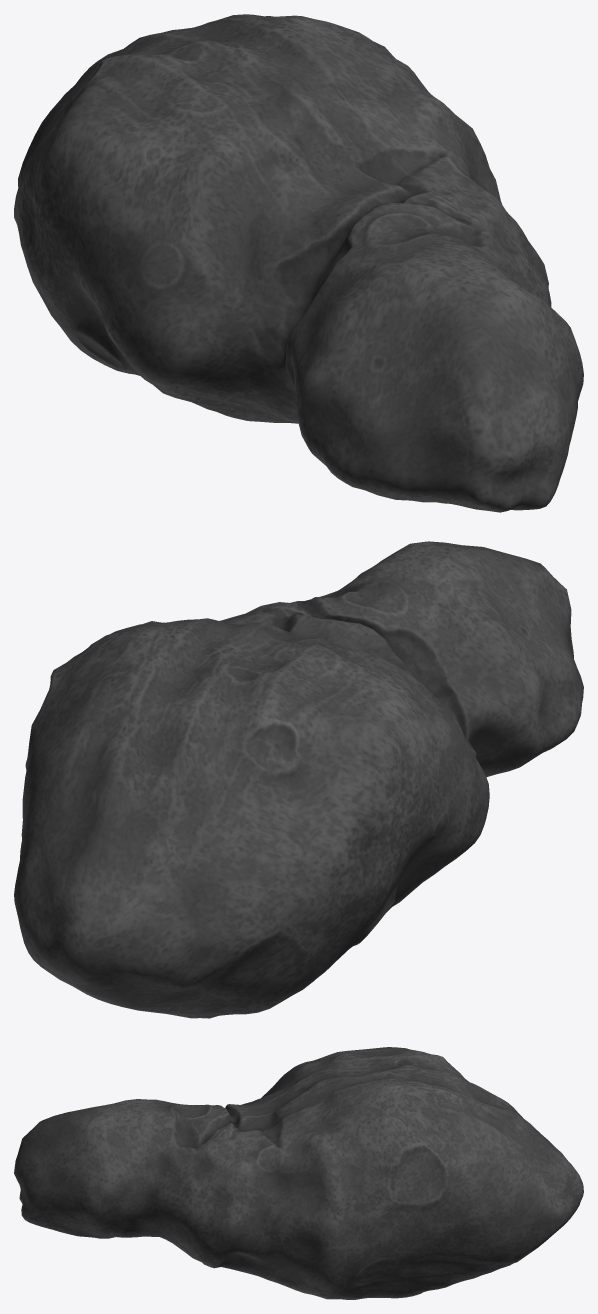
3 views of the same model, one above another, from view 1: azimuth 30°, elevation 25°; view 2: azimuth 150°, elevation 25°; view 3: azimuth 270°, elevation 25° (orthographic). The views are drawn at different scales.
Visible parts, largest first — view 1: Toutatis_LP; view 2: Toutatis_LP; view 3: Toutatis_LP.
Boxes of the visible parts, box(x1,y1,x2,y2) form: Toutatis_LP: box(14, 14, 583, 512); Toutatis_LP: box(14, 541, 583, 1018); Toutatis_LP: box(14, 1047, 583, 1299).
Size of the model in its own units: 2.27 by 1.9 by 4.57.
1 material, 1 textured.
